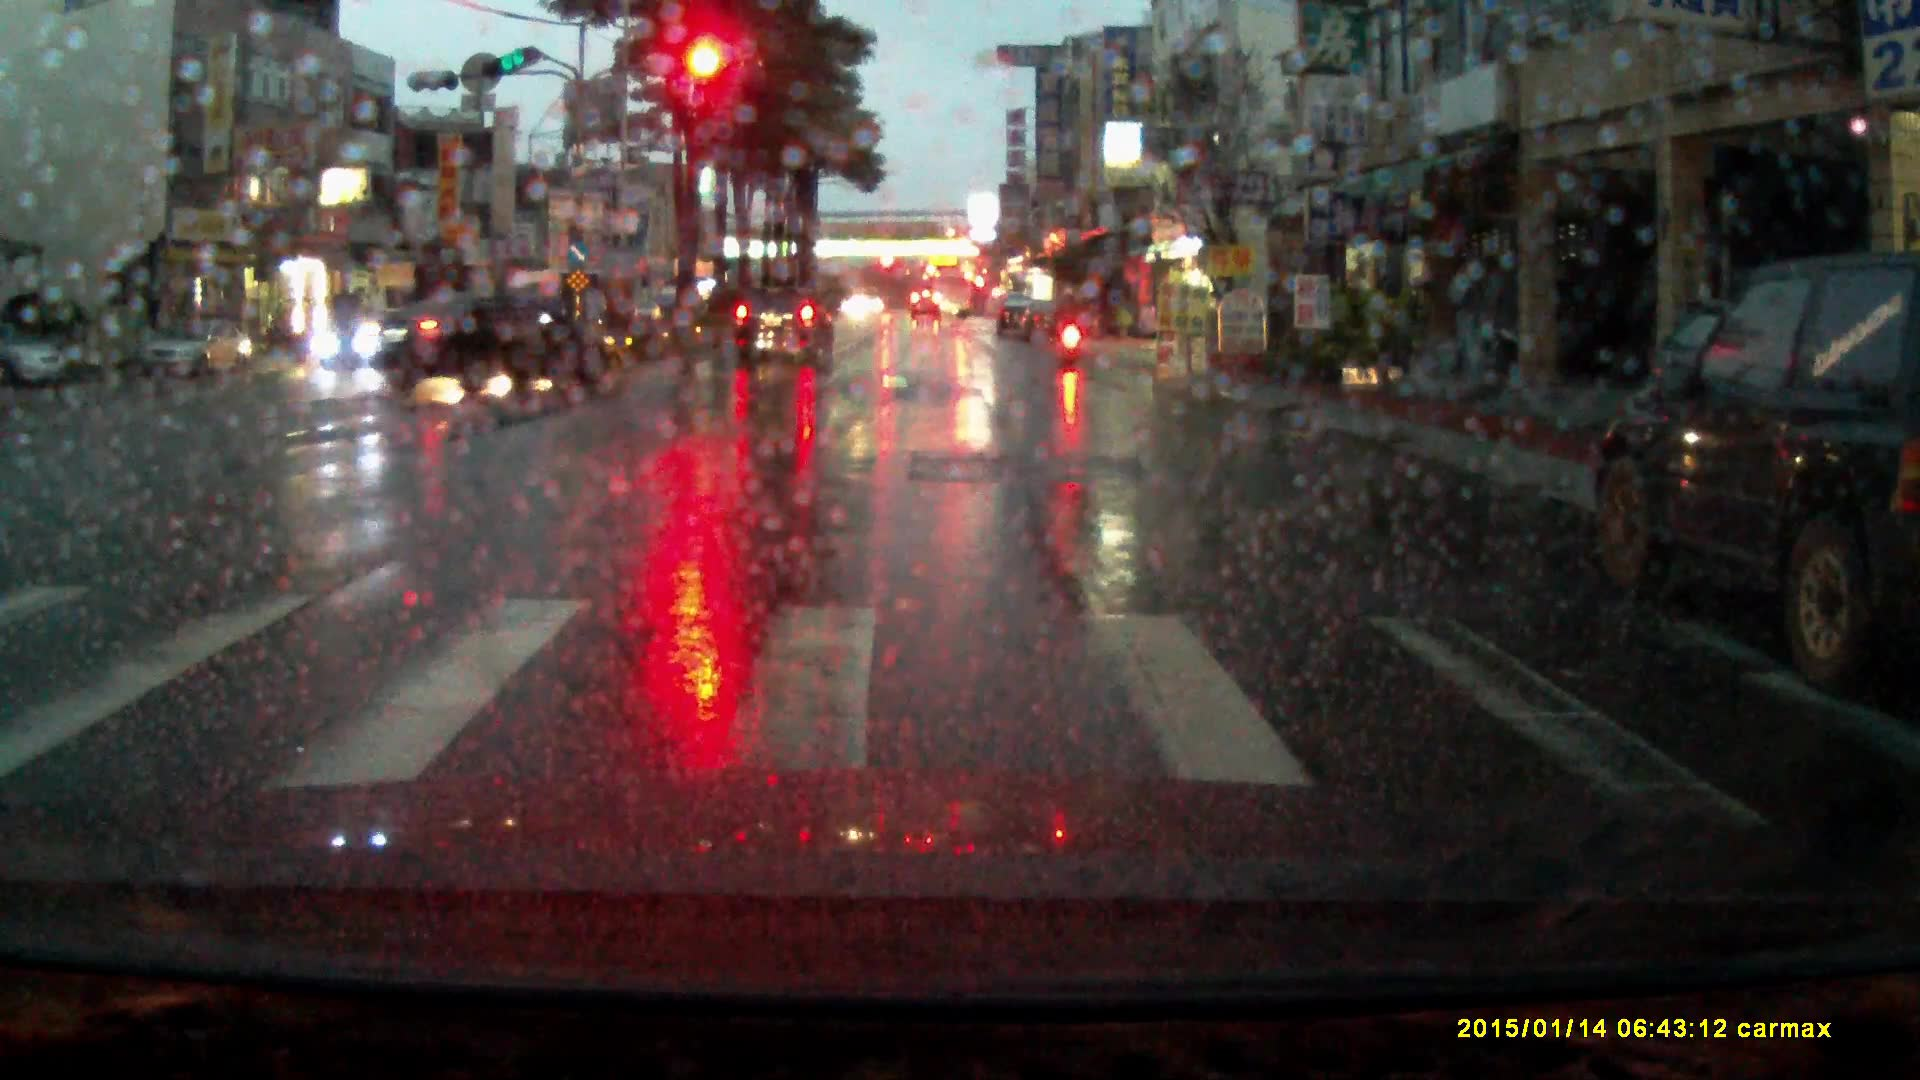rider: (1052, 285, 1095, 368)
vehicle: (1582, 248, 1920, 683), (366, 293, 619, 399), (734, 284, 832, 371), (142, 314, 253, 380), (494, 268, 591, 341), (574, 288, 664, 340), (1, 331, 69, 389), (1017, 300, 1079, 346), (931, 264, 973, 321), (995, 295, 1030, 338), (911, 291, 943, 322)
